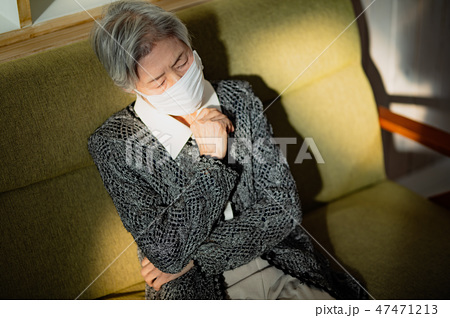mask: (145, 66, 210, 115)
